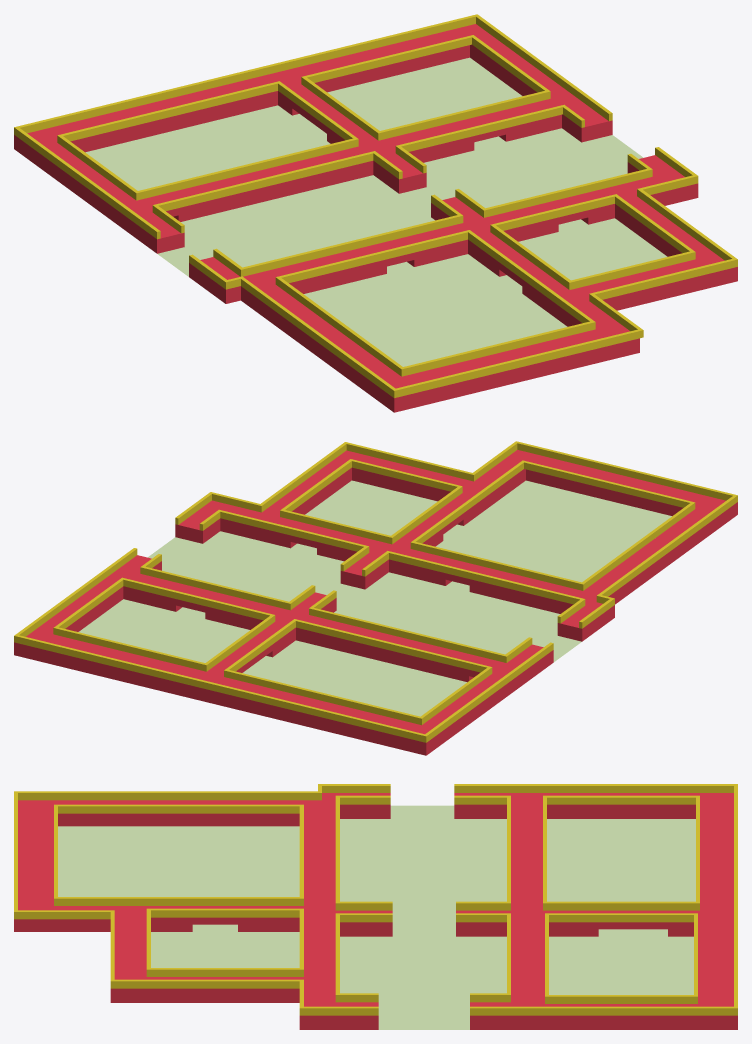
File: ChineseLevelDesignwithroof.fbx
The picture shows the model from 3 angles, top to bottom: view 1: azimuth 30°, elevation 25°; view 2: azimuth 150°, elevation 25°; view 3: azimuth 270°, elevation 25°; orthographic projection. The views are drawn at different scales.
Parts seen in each view (by area): view 1: Cube.014, Cube; view 2: Cube.014, Cube; view 3: Cube.014, Cube.
Part boxes in pixels (x1,y1,x2,y2): Cube.014: [14, 24, 737, 412]; Cube: [14, 14, 737, 398]; Cube.014: [14, 450, 737, 755]; Cube: [14, 441, 737, 742]; Cube.014: [14, 793, 737, 1029]; Cube: [14, 784, 737, 1015].
Size of the model in its own units: 36125 by 1624 by 49315.
